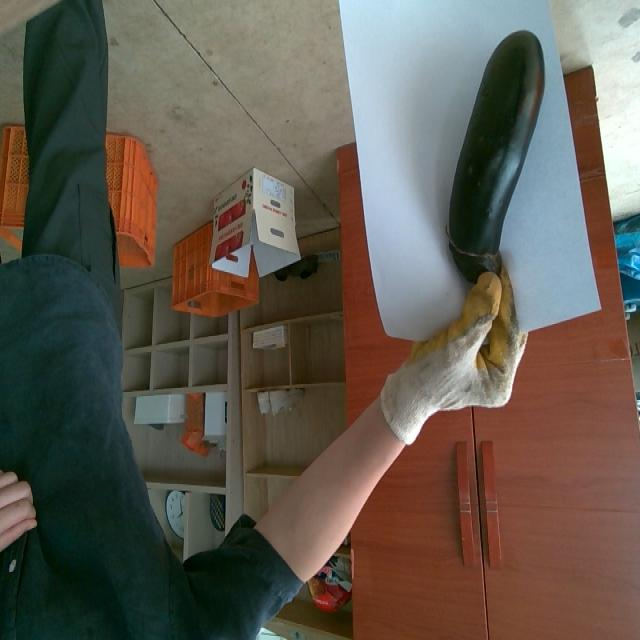Egg plant: (449, 32, 545, 281)
